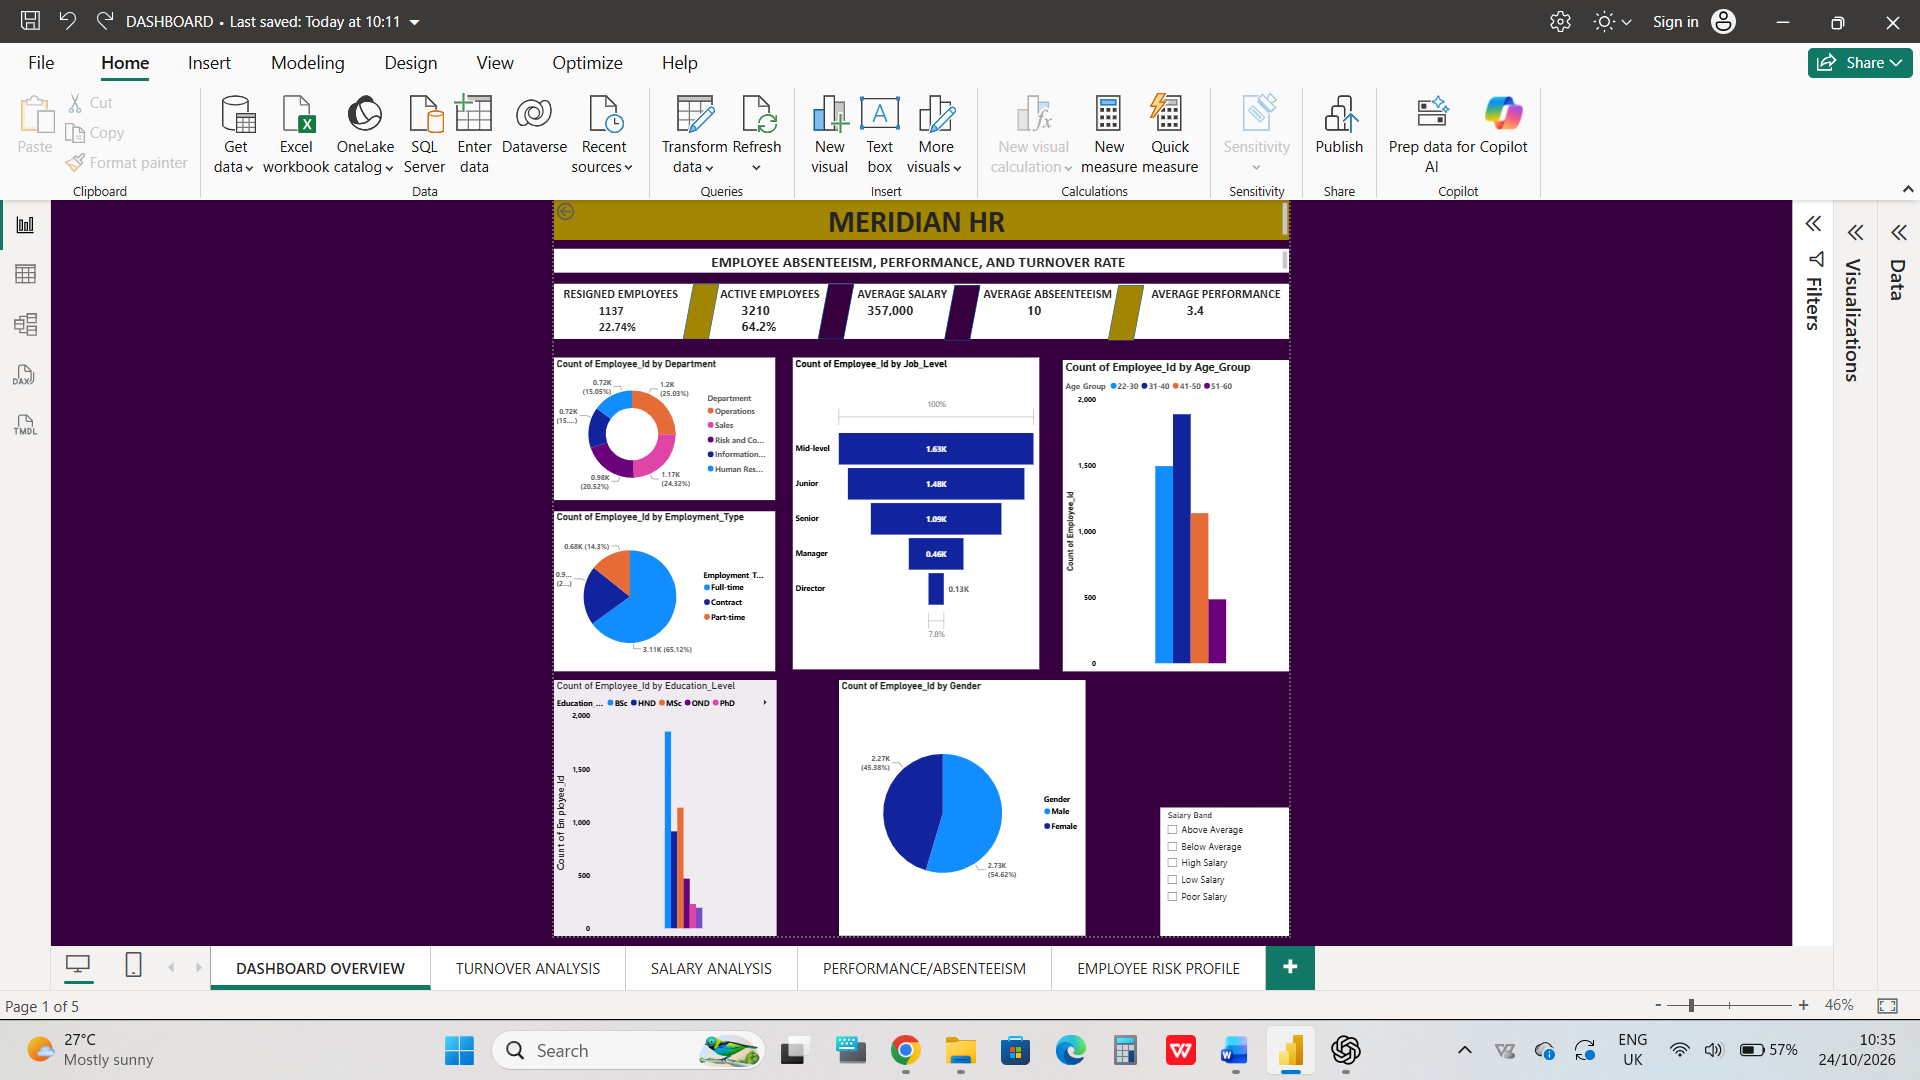

The page's visual inventory and layout, read from the dashboard file:
{"tool":"powerbi","page":{"name":"DASHBOARD OVERVIEW","canvas":[1280,1280],"ordinal":0},"visuals":[{"type":"textbox","box":[0,0,1280.4,69.6],"z":0},{"type":"textbox","box":[0,84.8,1280.4,41.3],"z":1000},{"type":"textbox","box":[0,145.7,1280.4,95.7],"z":2000},{"type":"shape","box":[223.8,145.5,63.6,96.6],"z":3000},{"type":"shape","box":[458.6,145.5,63.6,96.6],"z":4000},{"type":"shape","box":[677.4,146.7,63.6,96.6],"z":5000},{"type":"shape","box":[963.6,146.7,63.6,96.6],"z":6000},{"type":"donutChart","fields":{"Category":["Meridian.Department"],"Y":["CountNonNull(Meridian.Employee_Id)"]},"box":[0,273.9,384.8,247.8],"z":7000},{"type":"actionButton","box":[0,0,100,40],"z":8000},{"type":"pieChart","fields":{"Y":["CountNonNull(Meridian.Employee_Id)"],"Category":["Meridian.Employment_Type"]},"box":[0,541.3,384.8,278.3],"z":9000},{"type":"clusteredColumnChart","fields":{"Y":["CountNonNull(Meridian.Employee_Id)"],"Series":["Meridian.Education_Level"]},"box":[0,834.8,387,445.7],"z":10000},{"type":"funnel","fields":{"Y":["CountNonNull(Meridian.Employee_Id)"],"Category":["Meridian.Job_Level"]},"box":[415.6,273.3,428.9,542.2],"z":12000},{"type":"clusteredColumnChart","fields":{"Y":["CountNonNull(Meridian.Employee_Id)"],"Series":["Meridian.Age_Group"]},"box":[884.8,278.3,395.7,541.3],"z":13000},{"type":"pieChart","fields":{"Category":["Meridian.Gender"],"Y":["CountNonNull(Meridian.Employee_Id)"]},"box":[495.7,834.8,429,445],"z":14000},{"type":"slicer","fields":{"Values":["Meridian.Salary Band"]},"box":[1054.4,1056.5,226.1,223.9],"z":15000}]}

Visuals, with their boxes on the page's 1280x1280 design canvas (x1, y1, x2, y2). These are canvas units, not pixel positions in the 1920x1080 screenshot, which may show the page scaled, cropped or inside an application window:
textbox: bbox=(0, 0, 1280, 70)
textbox: bbox=(0, 85, 1280, 126)
textbox: bbox=(0, 146, 1280, 241)
shape: bbox=(224, 146, 287, 242)
shape: bbox=(459, 146, 522, 242)
shape: bbox=(677, 147, 741, 243)
shape: bbox=(964, 147, 1027, 243)
donutChart - Meridian.Department x CountNonNull(Meridian.Employee_Id): bbox=(0, 274, 385, 522)
actionButton: bbox=(0, 0, 100, 40)
pieChart - CountNonNull(Meridian.Employee_Id) x Meridian.Employment_Type: bbox=(0, 541, 385, 820)
clusteredColumnChart - CountNonNull(Meridian.Employee_Id) x Meridian.Education_Level: bbox=(0, 835, 387, 1280)
funnel - CountNonNull(Meridian.Employee_Id) x Meridian.Job_Level: bbox=(416, 273, 844, 816)
clusteredColumnChart - CountNonNull(Meridian.Employee_Id) x Meridian.Age_Group: bbox=(885, 278, 1280, 820)
pieChart - Meridian.Gender x CountNonNull(Meridian.Employee_Id): bbox=(496, 835, 925, 1280)
slicer - Meridian.Salary Band: bbox=(1054, 1056, 1280, 1280)
